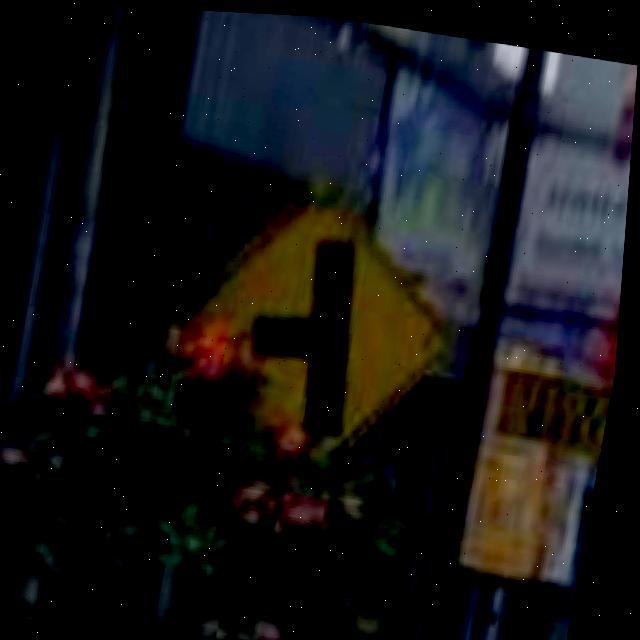Persimpangan 3 Sisi Kiri: (221, 195, 474, 368)
